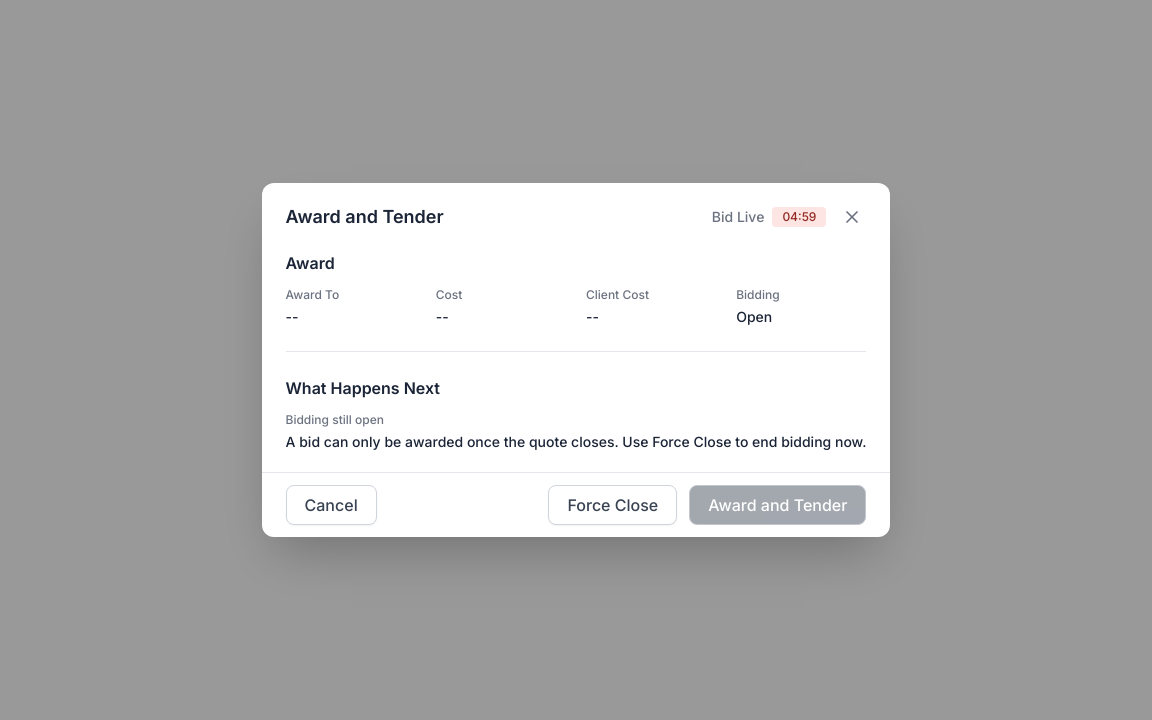
Scenario: AwardModal — SPB-75 force-close threshold › disables force-close and shows the note when the quote closes on its own within 5 minutes
This screenshot has width=1152, height=720.
Click the button "Force Close": (613, 505) [548, 485, 677, 525]
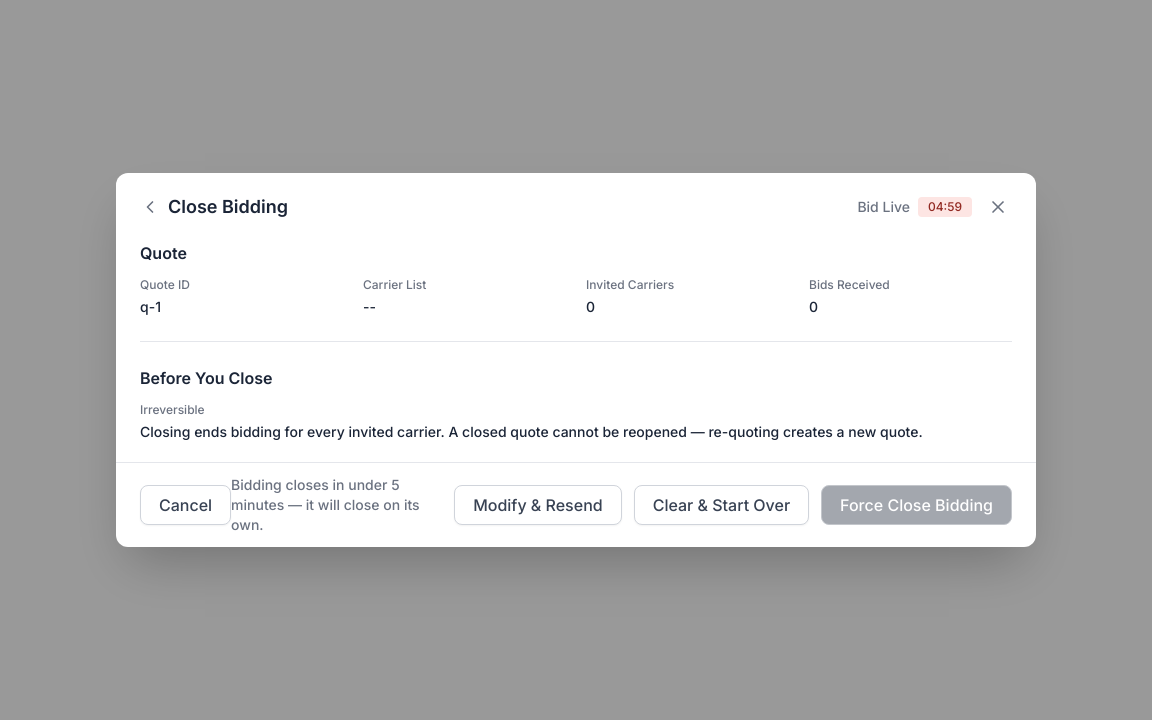
expect the text "closes in under 5 minutes" is shown: met, box [231, 476, 420, 533]
expect the button "Force Close Bidding" is disabled: met, box [821, 485, 1012, 525]
